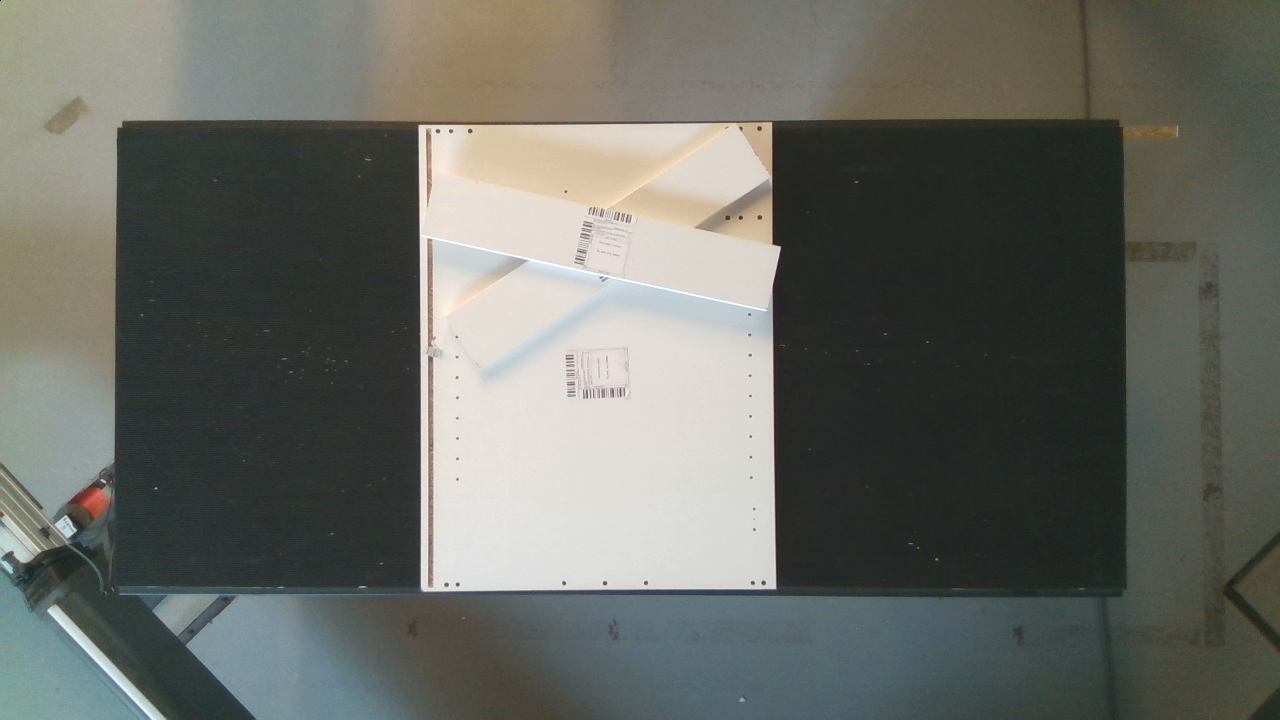barcode: (566, 196, 644, 287), (556, 342, 640, 407)
part1: (441, 127, 769, 394), (420, 166, 793, 316)
part2: (403, 113, 822, 615)
